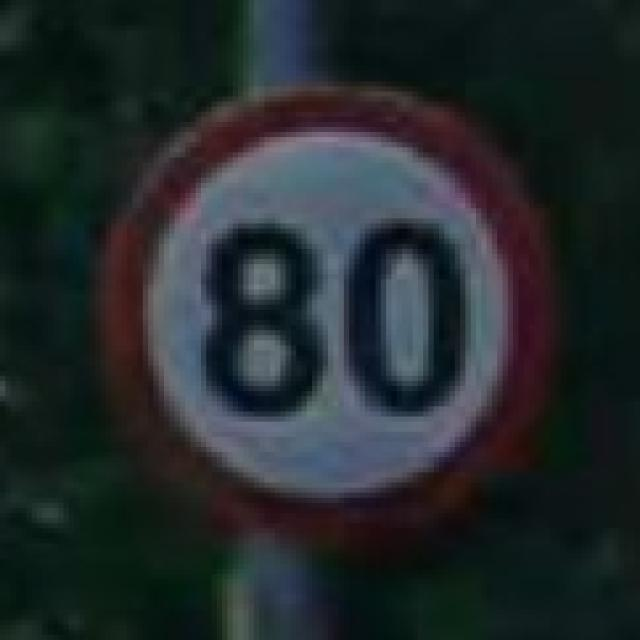Speed Limit -80-: (199, 220, 470, 420)
